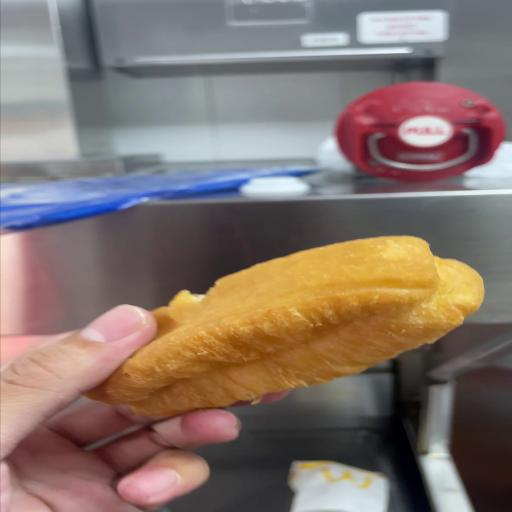brand_golden_defect: (86, 236, 484, 416)
